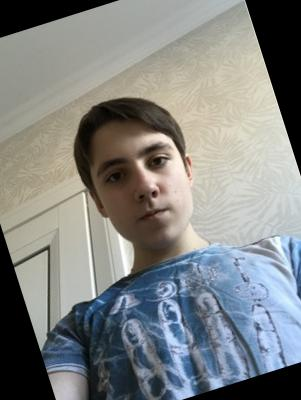without_mask: (86, 131, 206, 262)
